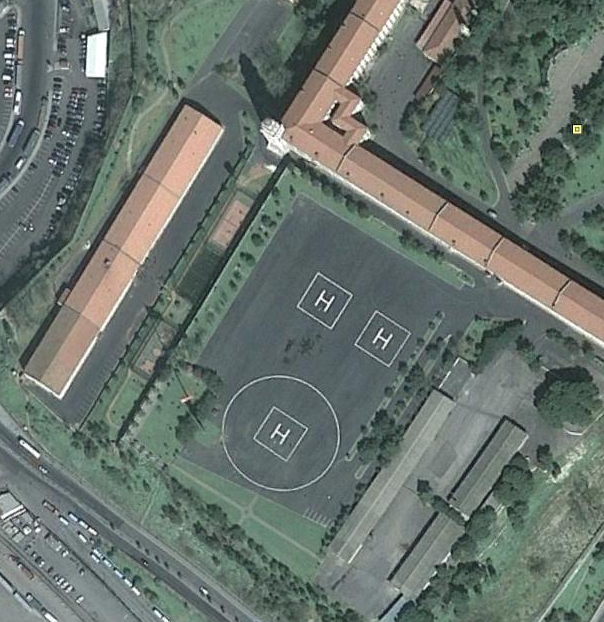heliport: (268, 421, 293, 446), (370, 325, 394, 351), (313, 286, 336, 313)
